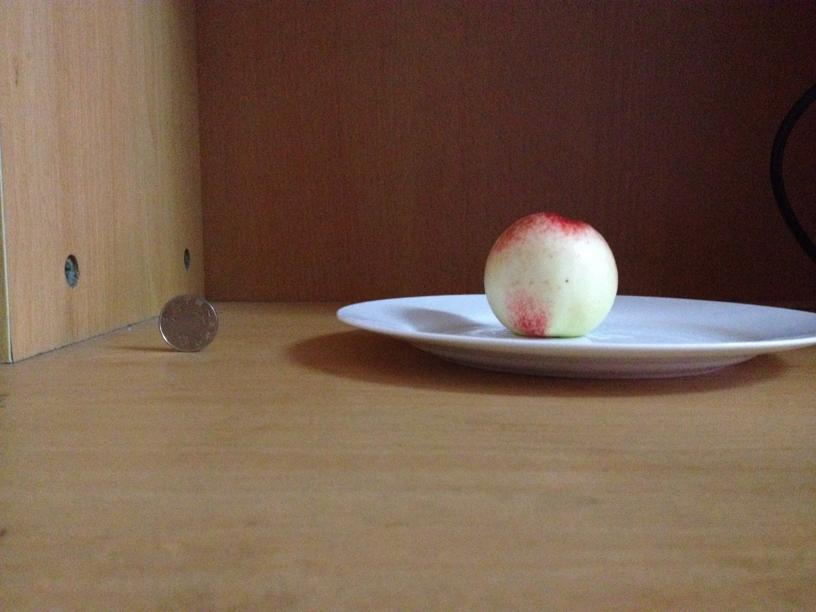coin: (156, 295, 218, 350)
peach: (483, 213, 618, 335)
